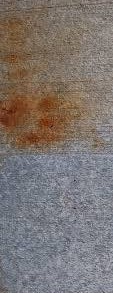Corrosion: (1, 1, 113, 156)
